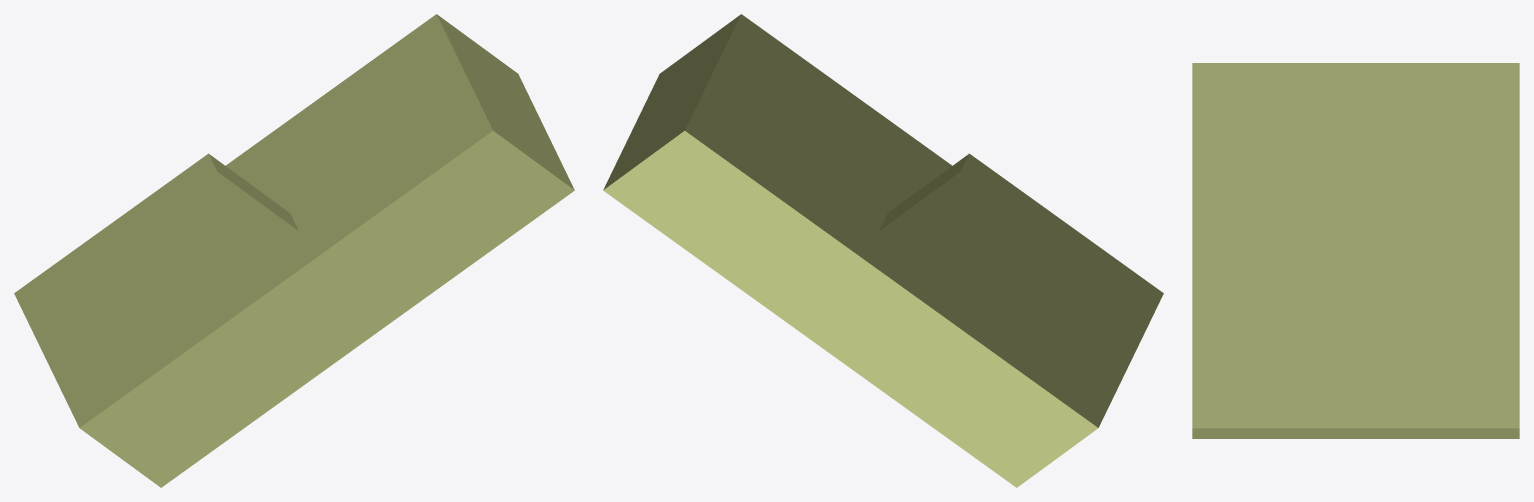
3 renders of one model, left to right at view 1: azimuth 30°, elevation 25°; view 2: azimuth 150°, elevation 25°; view 3: azimuth 270°, elevation 25°, orthographic. The views are drawn at different scales.
Visible parts, largest first — view 1: 0_1_0_2_2_1_0_2_1; view 2: 0_1_0_2_2_1_0_2_1; view 3: 0_1_0_2_2_1_0_2_1.
Boxes of the visible parts, left/top/right/bottom form: 0_1_0_2_2_1_0_2_1: left=14, top=14, right=574, bottom=487; 0_1_0_2_2_1_0_2_1: left=603, top=14, right=1163, bottom=487; 0_1_0_2_2_1_0_2_1: left=1192, top=63, right=1519, bottom=438.
Bounding box in the file's own units: 20.3 × 13.24 × 6.
